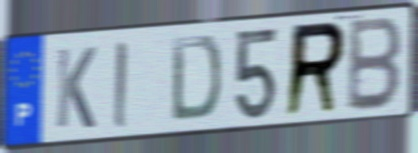5: (232, 27, 280, 123)
B: (344, 14, 405, 115)
D: (169, 33, 224, 124)
I: (112, 39, 130, 131)
K: (54, 45, 99, 132)
R: (282, 18, 349, 121)
